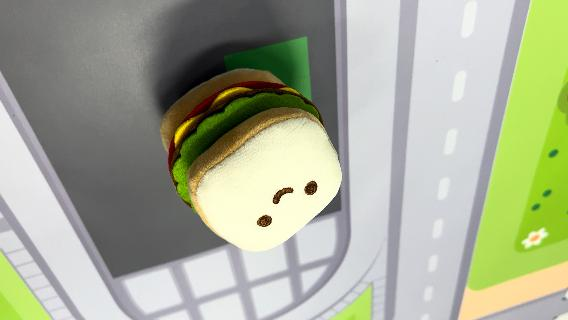sandwich: (158, 65, 344, 253)
